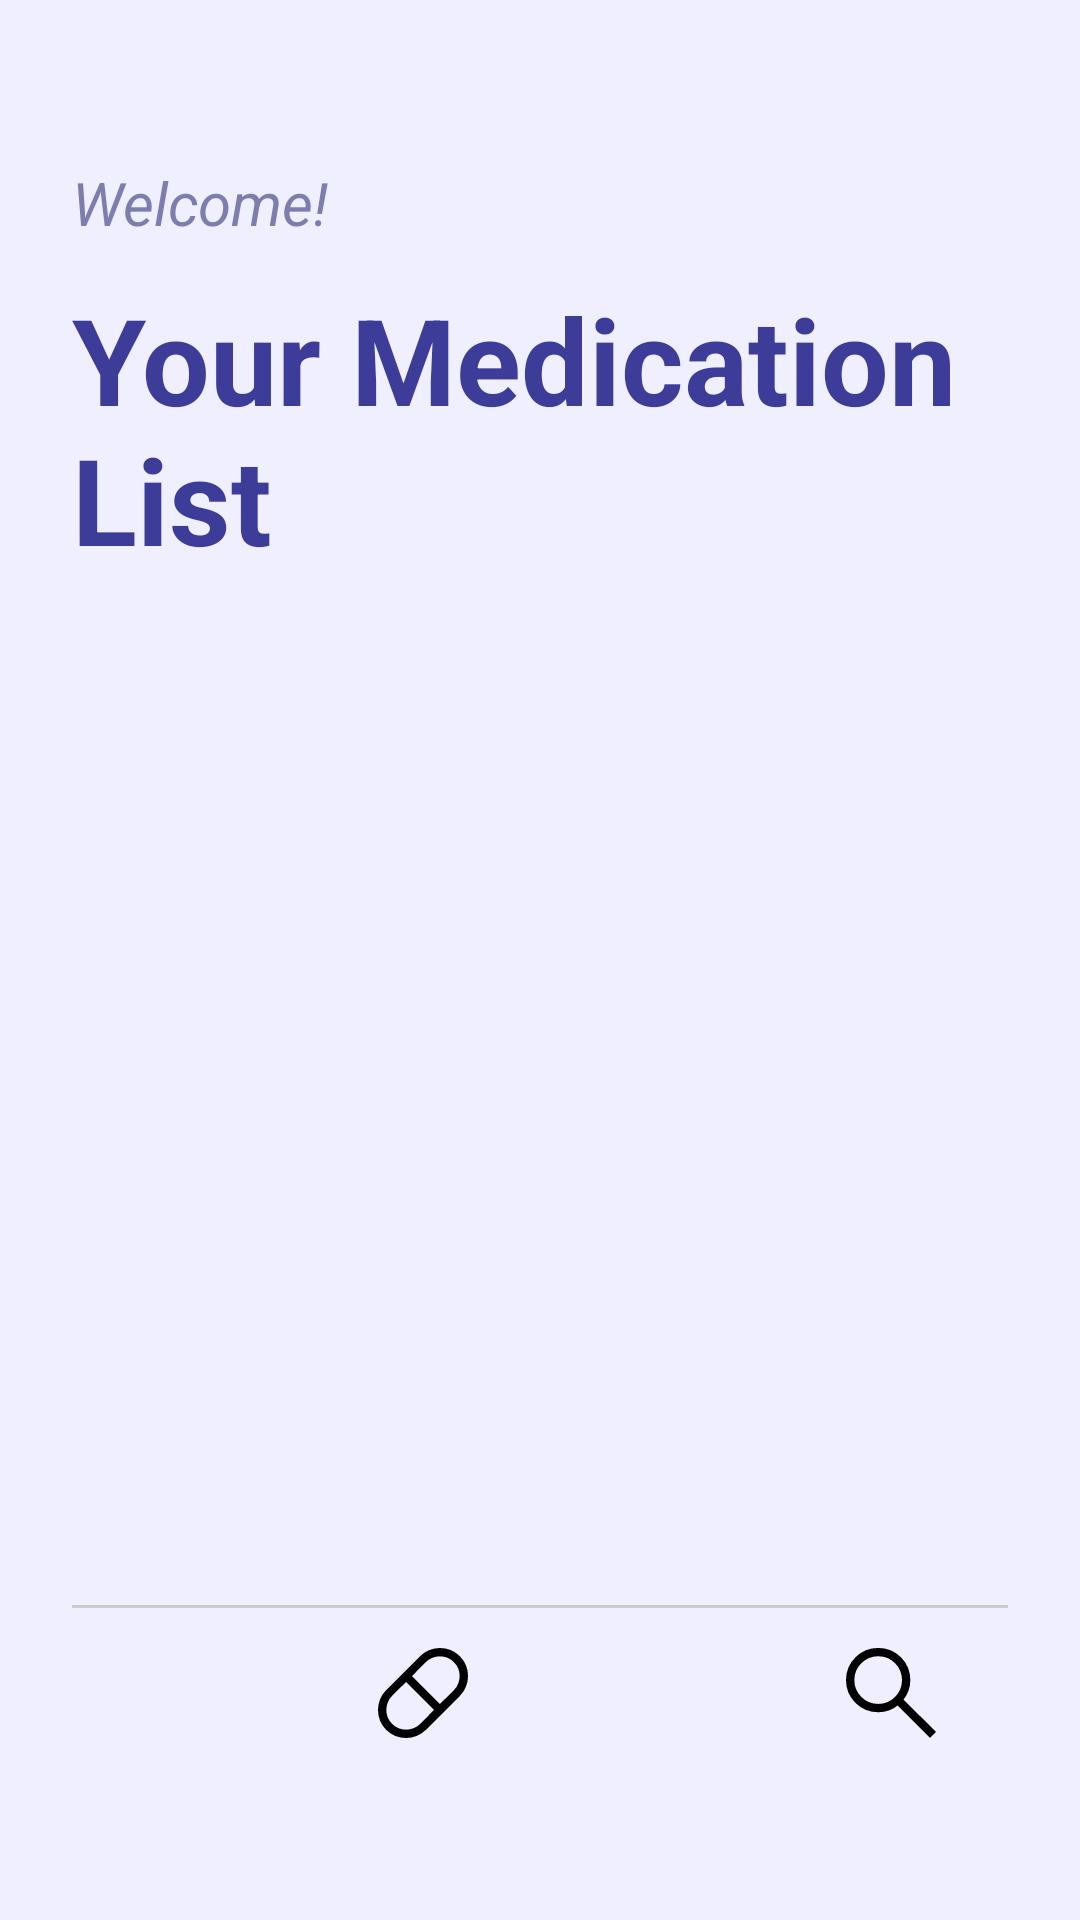

Icon click points for this 1080 × 1920 phone screenshot, format (x=x, y=y):
Meds: (x=423, y=1693)
Search: (x=891, y=1693)
